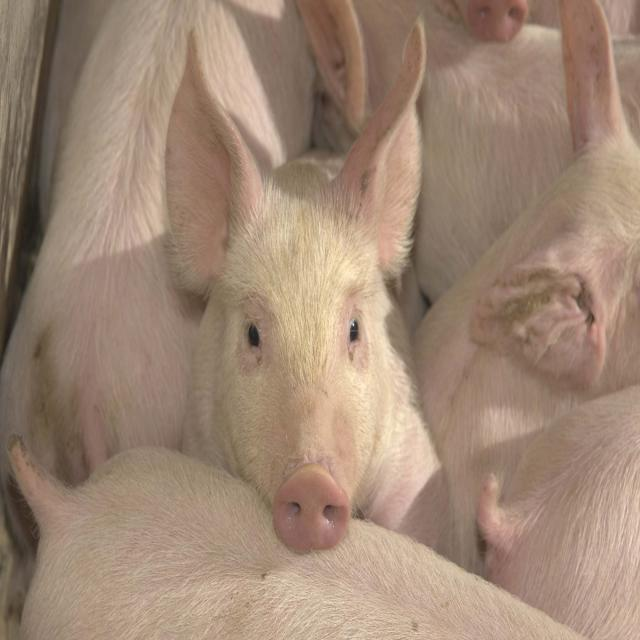Pig: (159, 17, 452, 554)
